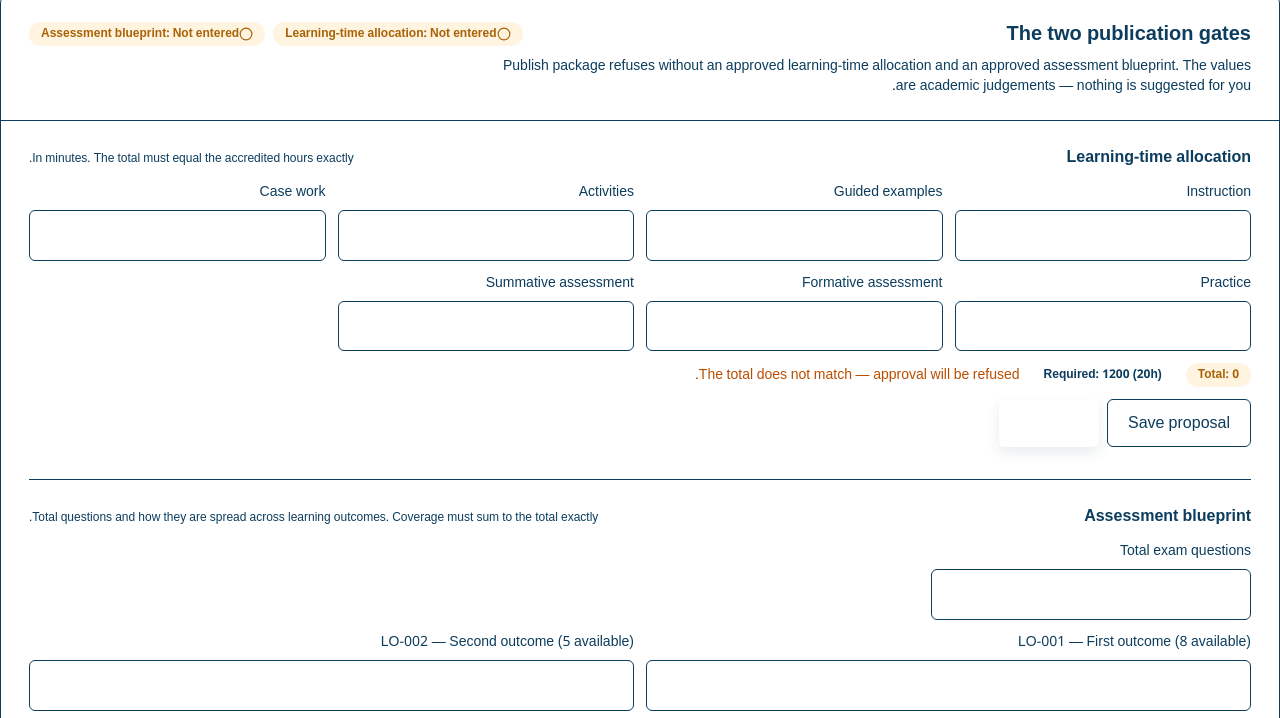
Test: PublicationGatesPanel › warns when an outcome is asked for more questions than the bank has approved
The image size is (1280, 718).
Type "9" into the number field labelled "Total exam questions" at (1091, 595), box top-left (931, 569), bottom-right (1251, 620)
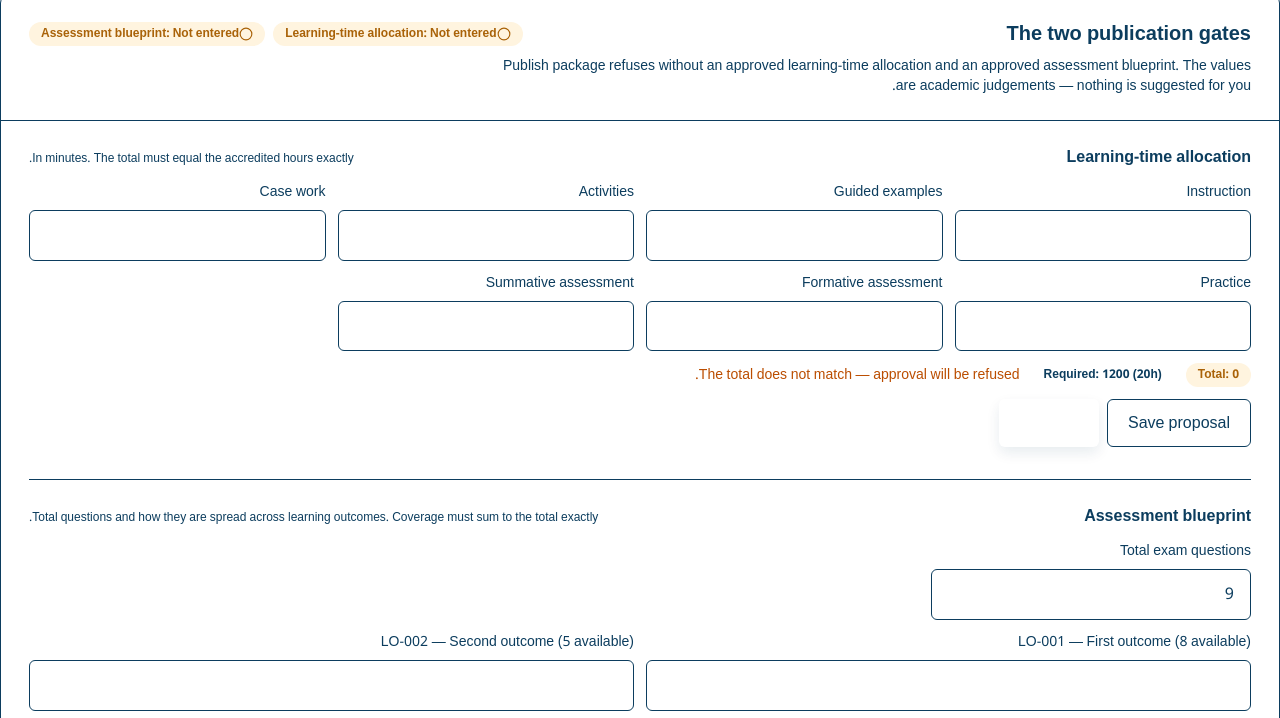
Type "9" into the number field labelled "LO-001 — First outcome (8 available)" at (948, 685), box top-left (646, 660), bottom-right (1251, 711)
(page scrolled)
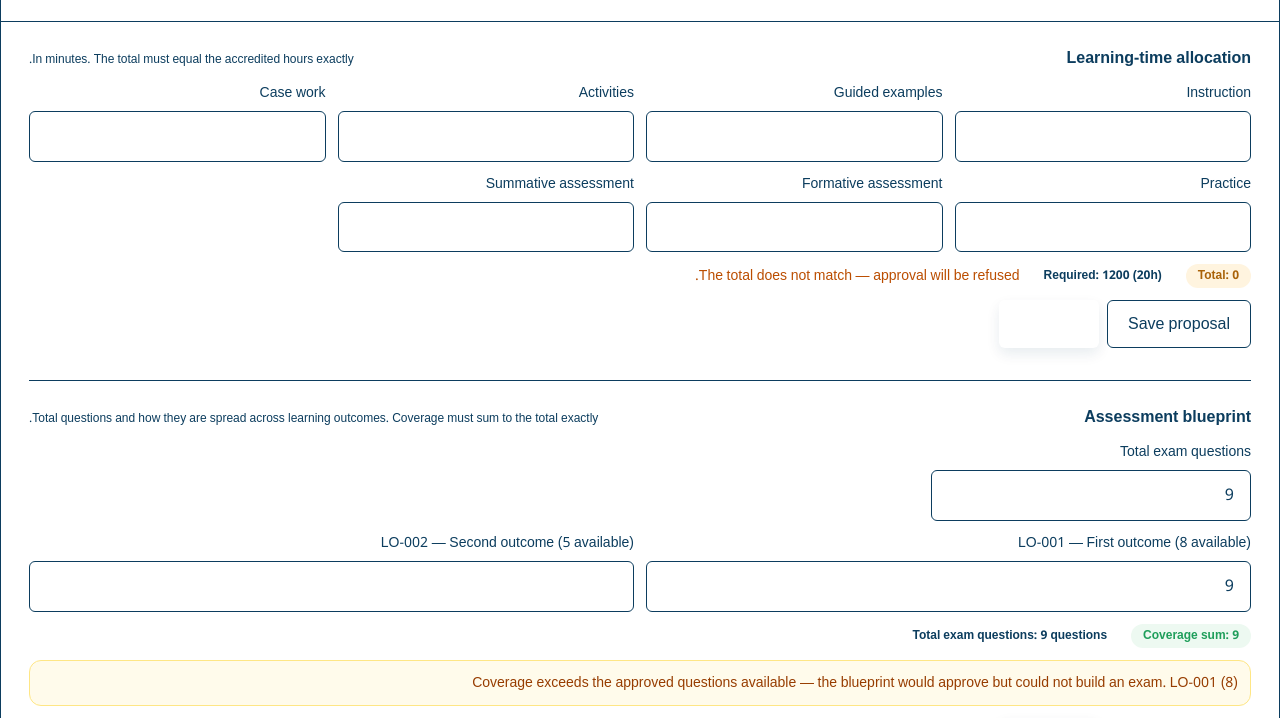
Expected: the text "could not build an exam" is shown, top-left (472, 668), bottom-right (1166, 697)
Expected: the text "LO-001 (8)" is shown, top-left (1170, 668), bottom-right (1238, 697)
